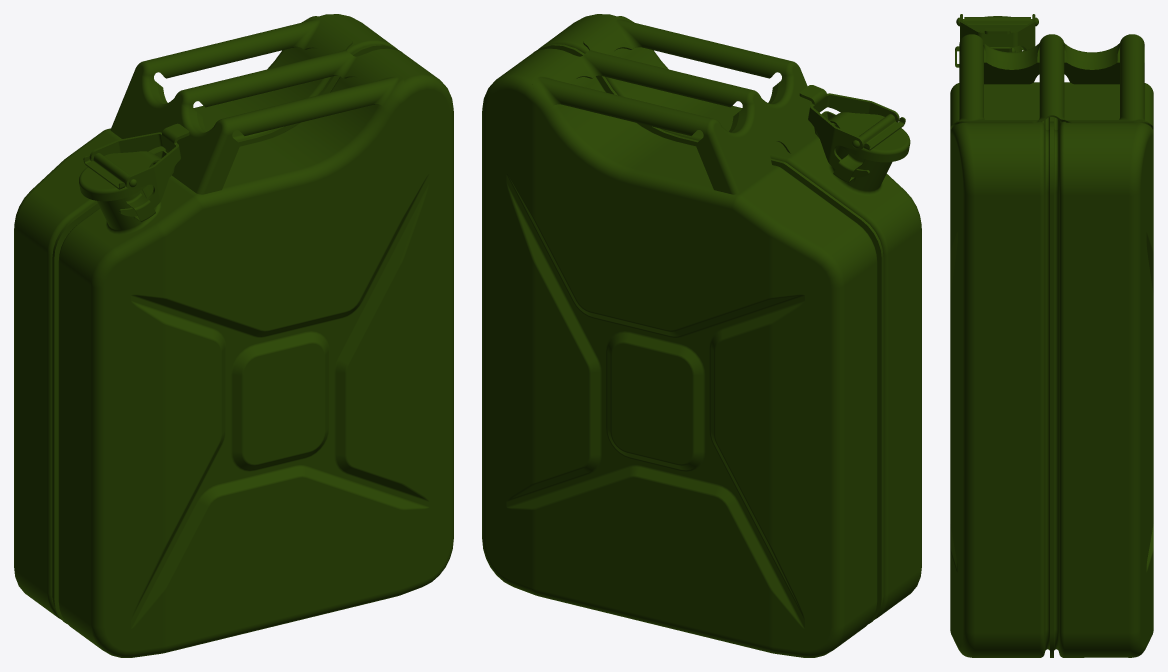
The model's file is petrol.glb.
3 renders of one model, left to right at view 1: azimuth 30°, elevation 25°; view 2: azimuth 150°, elevation 25°; view 3: azimuth 270°, elevation 25°, orthographic. The views are drawn at different scales.
Visible parts, largest first — view 1: Jerry CAN_20L_Paint Matte Green_0.001, Jerry CAN_20L_Paint Matte Green_0, Jerry CAN_20L_Paint Matte Green_0.002, Jerry CAN_20L_Paint Matte Green_0.010, Jerry CAN_20L_Paint Matte Green_0.006, Jerry CAN_20L_Paint Matte Green_0.003, Jerry CAN_20L_Paint Matte Green_0.008; view 2: Jerry CAN_20L_Paint Matte Green_0, Jerry CAN_20L_Paint Matte Green_0.001, Jerry CAN_20L_Paint Matte Green_0.002, Jerry CAN_20L_Paint Matte Green_0.010, Jerry CAN_20L_Paint Matte Green_0.006, Jerry CAN_20L_Paint Matte Green_0.003, Jerry CAN_20L_Paint Matte Green_0.008; view 3: Jerry CAN_20L_Paint Matte Green_0.001, Jerry CAN_20L_Paint Matte Green_0, Jerry CAN_20L_Paint Matte Green_0.002, Jerry CAN_20L_Paint Matte Green_0.010, Jerry CAN_20L_Paint Matte Green_0.006.
Part boxes in pixels (<box>): Jerry CAN_20L_Paint Matte Green_0.001: <box>53,44,453,657</box>; Jerry CAN_20L_Paint Matte Green_0: <box>14,14,397,620</box>; Jerry CAN_20L_Paint Matte Green_0.002: <box>110,16,403,194</box>; Jerry CAN_20L_Paint Matte Green_0.010: <box>89,123,189,216</box>; Jerry CAN_20L_Paint Matte Green_0.006: <box>83,151,160,189</box>; Jerry CAN_20L_Paint Matte Green_0.003: <box>79,167,147,201</box>; Jerry CAN_20L_Paint Matte Green_0.008: <box>124,150,174,221</box>; Jerry CAN_20L_Paint Matte Green_0: <box>482,44,882,657</box>; Jerry CAN_20L_Paint Matte Green_0.001: <box>538,14,921,620</box>; Jerry CAN_20L_Paint Matte Green_0.002: <box>532,16,817,194</box>; Jerry CAN_20L_Paint Matte Green_0.010: <box>799,85,899,177</box>; Jerry CAN_20L_Paint Matte Green_0.006: <box>828,112,905,150</box>; Jerry CAN_20L_Paint Matte Green_0.003: <box>841,128,910,162</box>; Jerry CAN_20L_Paint Matte Green_0.008: <box>814,111,865,182</box>; Jerry CAN_20L_Paint Matte Green_0.001: <box>950,47,1051,657</box>; Jerry CAN_20L_Paint Matte Green_0: <box>1052,82,1153,657</box>; Jerry CAN_20L_Paint Matte Green_0.002: <box>950,34,1153,129</box>; Jerry CAN_20L_Paint Matte Green_0.010: <box>960,14,1035,50</box>; Jerry CAN_20L_Paint Matte Green_0.006: <box>960,14,1034,47</box>.
Bounding box in the file's own units: 0.6601 × 0.8967 × 0.3157.
